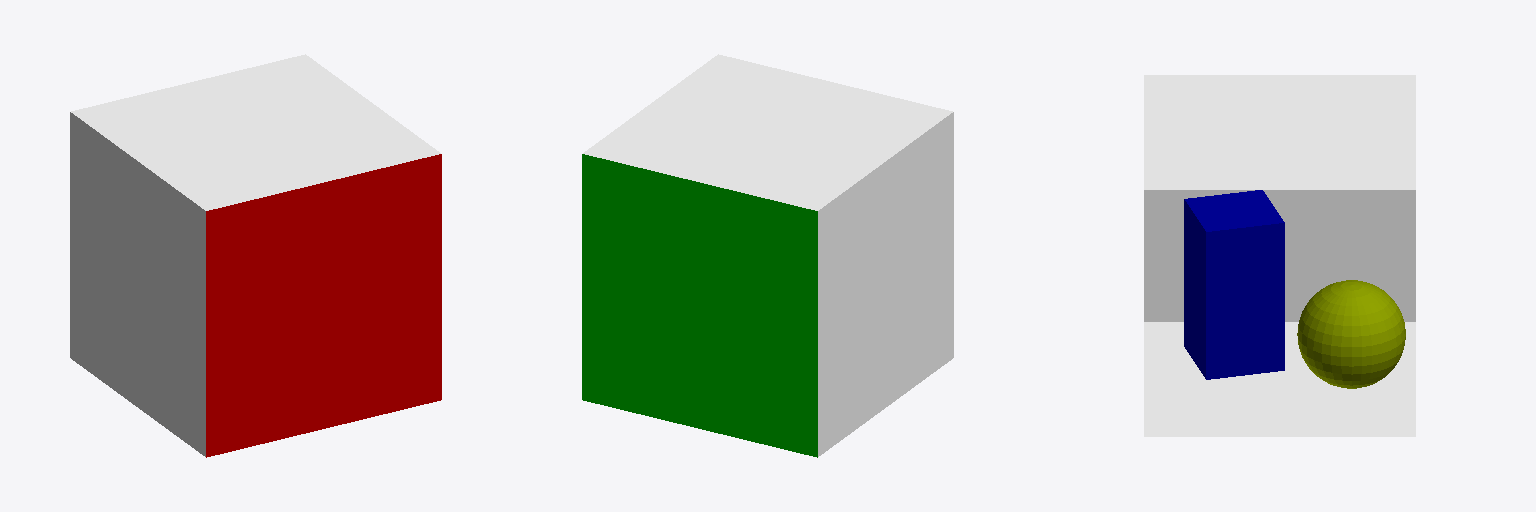
File: cornell.obj
The picture shows the model from 3 angles: view 1: azimuth 30°, elevation 25°; view 2: azimuth 150°, elevation 25°; view 3: azimuth 270°, elevation 25°; orthographic projection.
Parts seen in each view (by area): view 1: Left_Wall_Plane.001, Back_Wall_Plane.003, Roof_Plane.004; view 2: Right_Wall_Plane.002, Back_Wall_Plane.003, Roof_Plane.004; view 3: Roof_Plane.004, Floor_Plane, Back_Wall_Plane.003, Cube_Cube.001, Sphere.
Part boxes in pixels (x1,y1,x2,y2): Left_Wall_Plane.001: (206,154,441,457); Back_Wall_Plane.003: (70,112,205,456); Roof_Plane.004: (71,54,440,210); Right_Wall_Plane.002: (582,154,817,457); Back_Wall_Plane.003: (818,112,953,456); Roof_Plane.004: (583,54,952,210); Roof_Plane.004: (1144,75,1415,189); Floor_Plane: (1144,322,1415,436); Back_Wall_Plane.003: (1144,190,1415,321); Cube_Cube.001: (1184,190,1284,379); Sphere: (1297,280,1405,388).
Bounding box in the file's own units: 1 × 1 × 1.